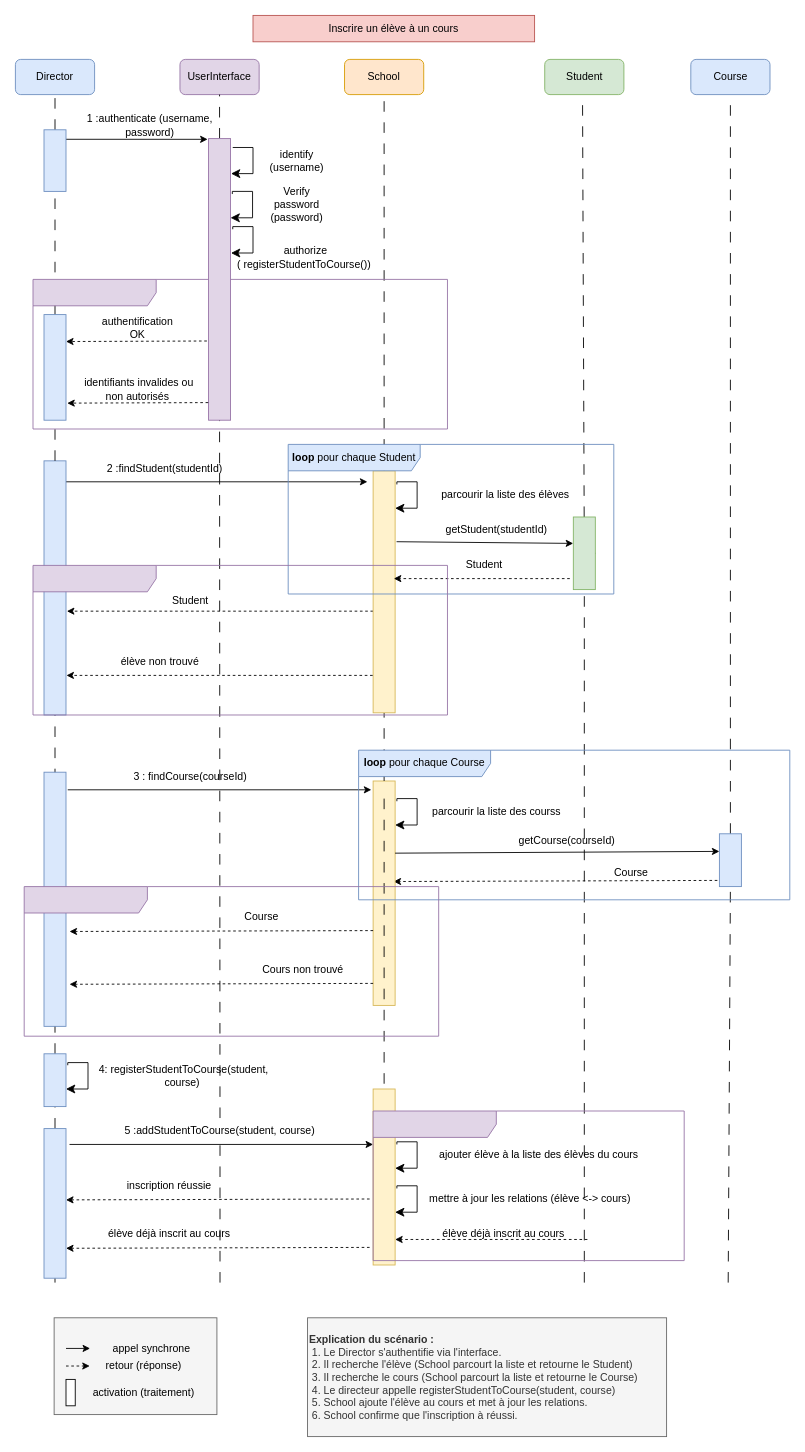
Image size: 805x1452. Some labels were removed from this diagram. Each missing label, with the box of its shape:
alt: Course trouvé: (23, 886, 439, 1036)
alt: identifiants valides et autorisé: (32, 279, 447, 429)
alt: Student non déjà inscrit au course: (372, 1110, 684, 1261)
alt: Student trouvé: (32, 565, 447, 715)
Légende :: (53, 1317, 217, 1415)
